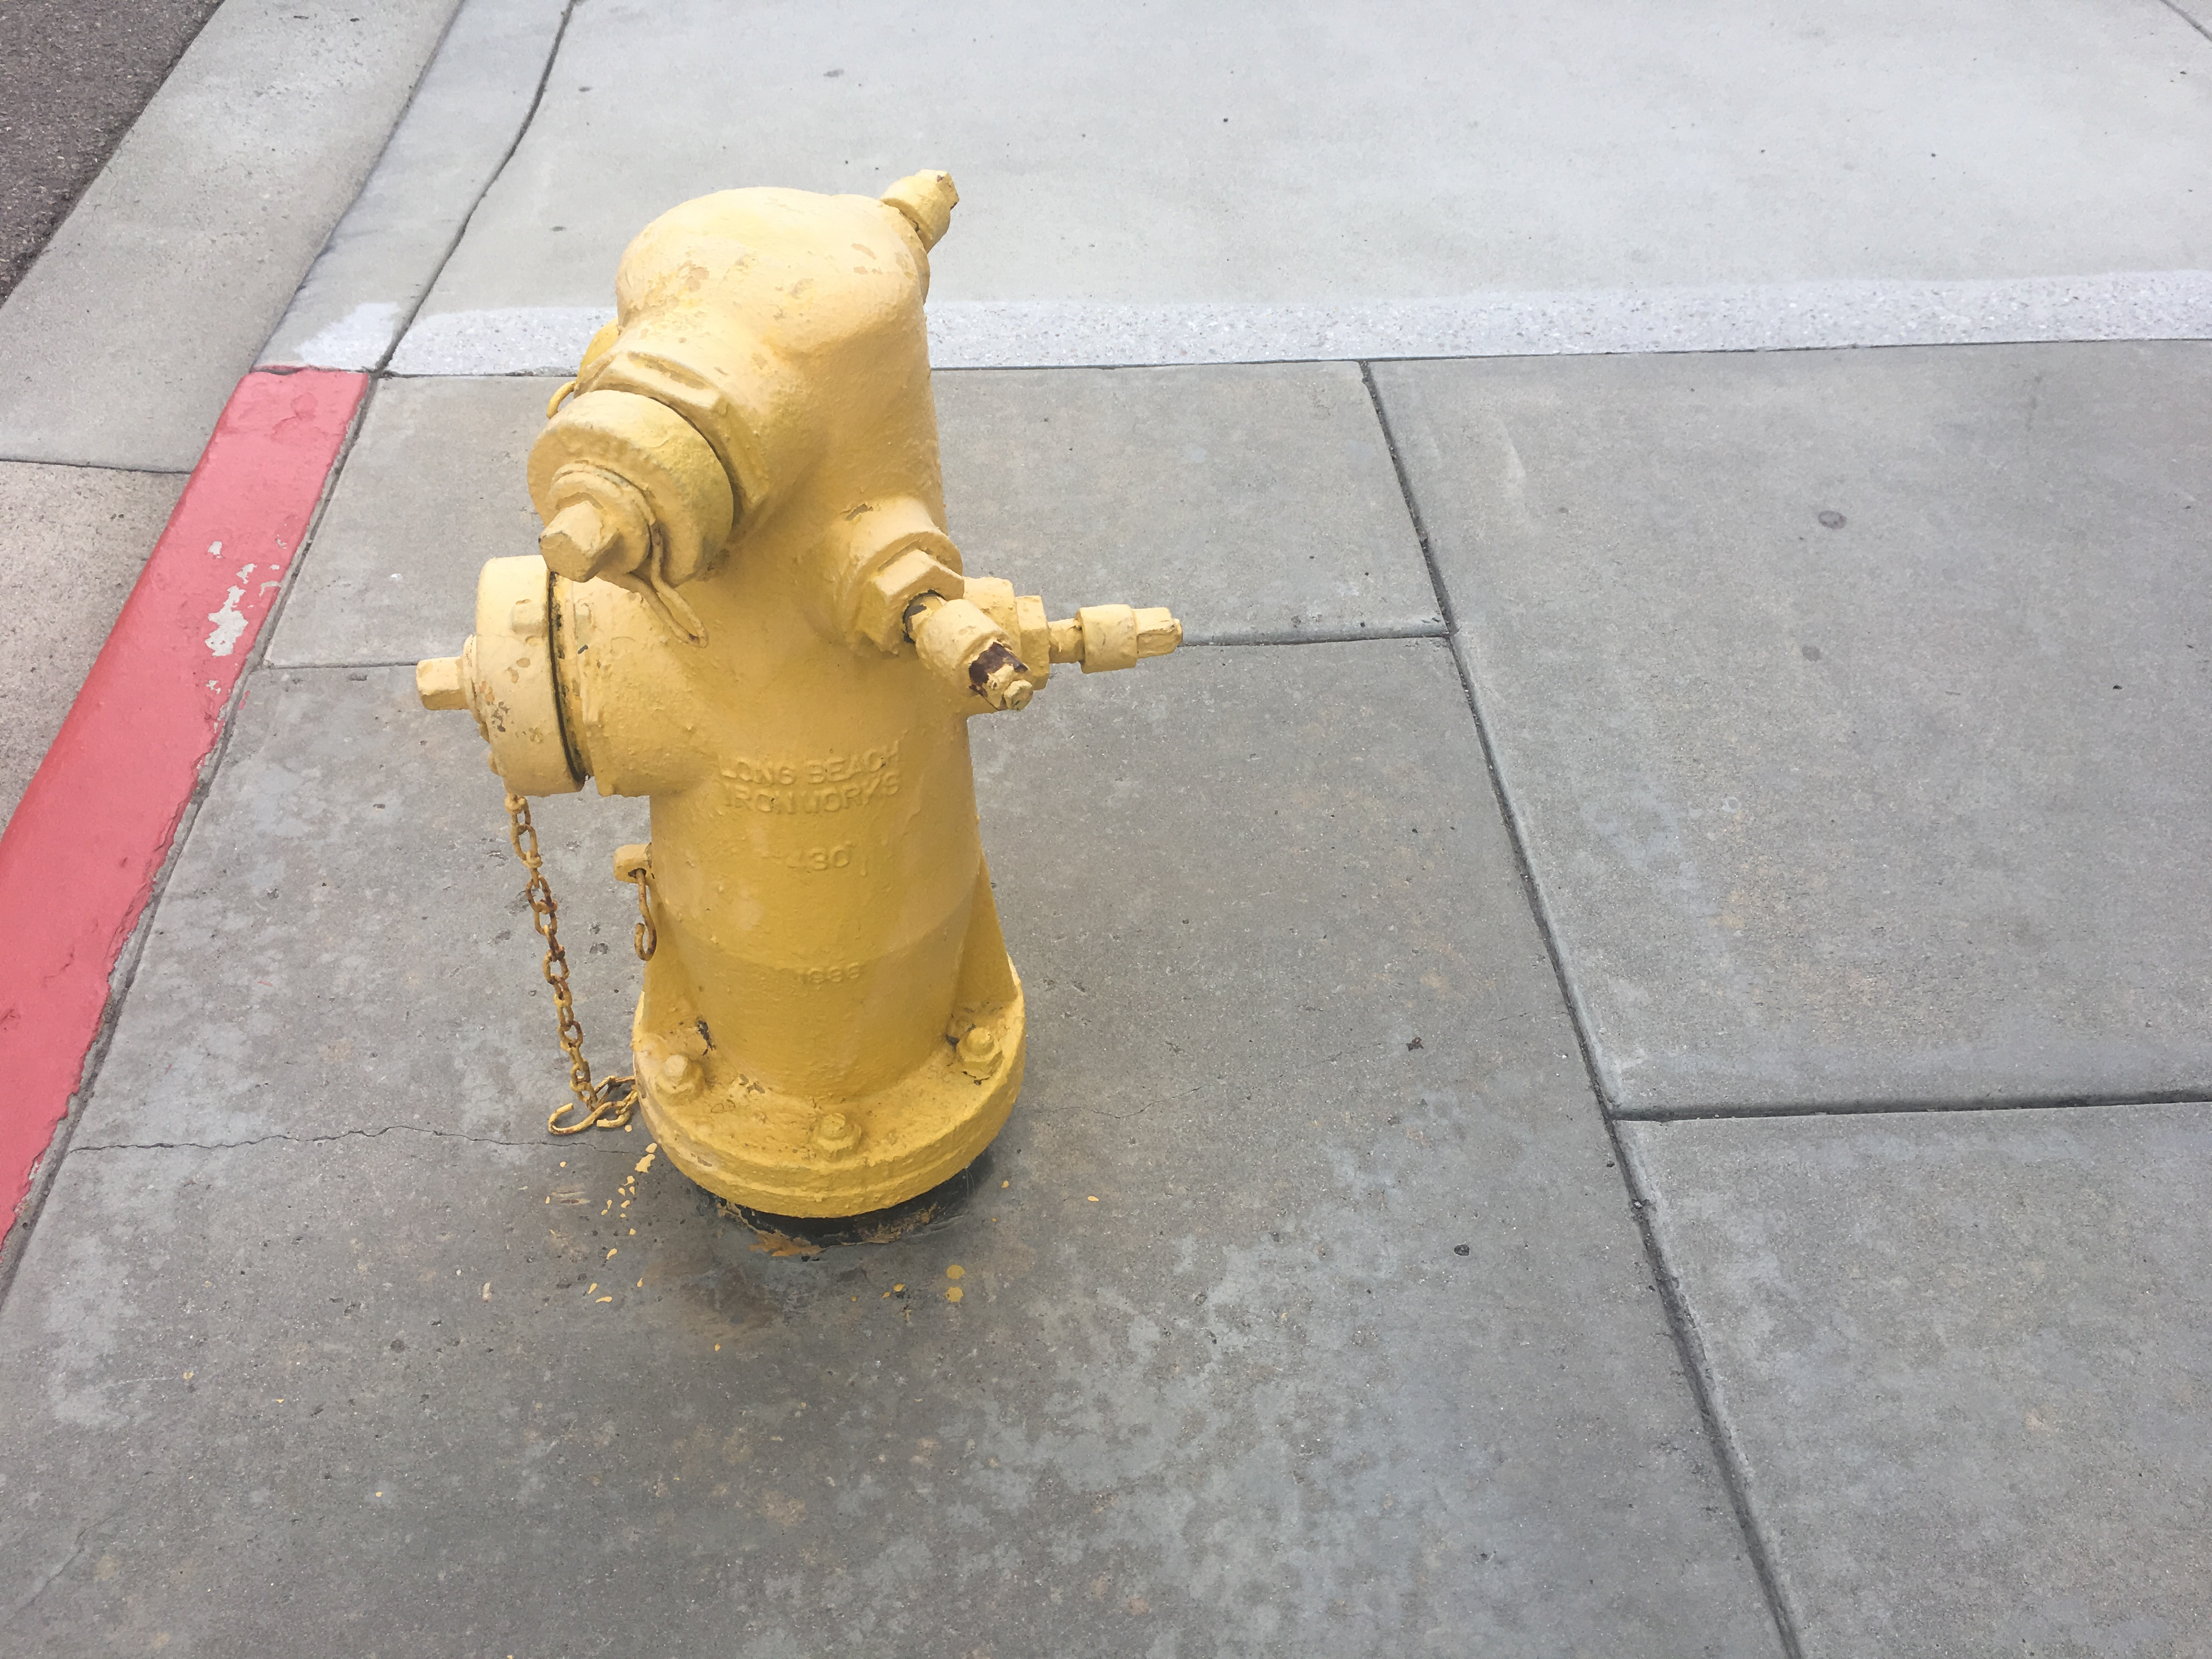Edge: (5, 357, 265, 838)
Obstacle: (423, 141, 1188, 1258)
